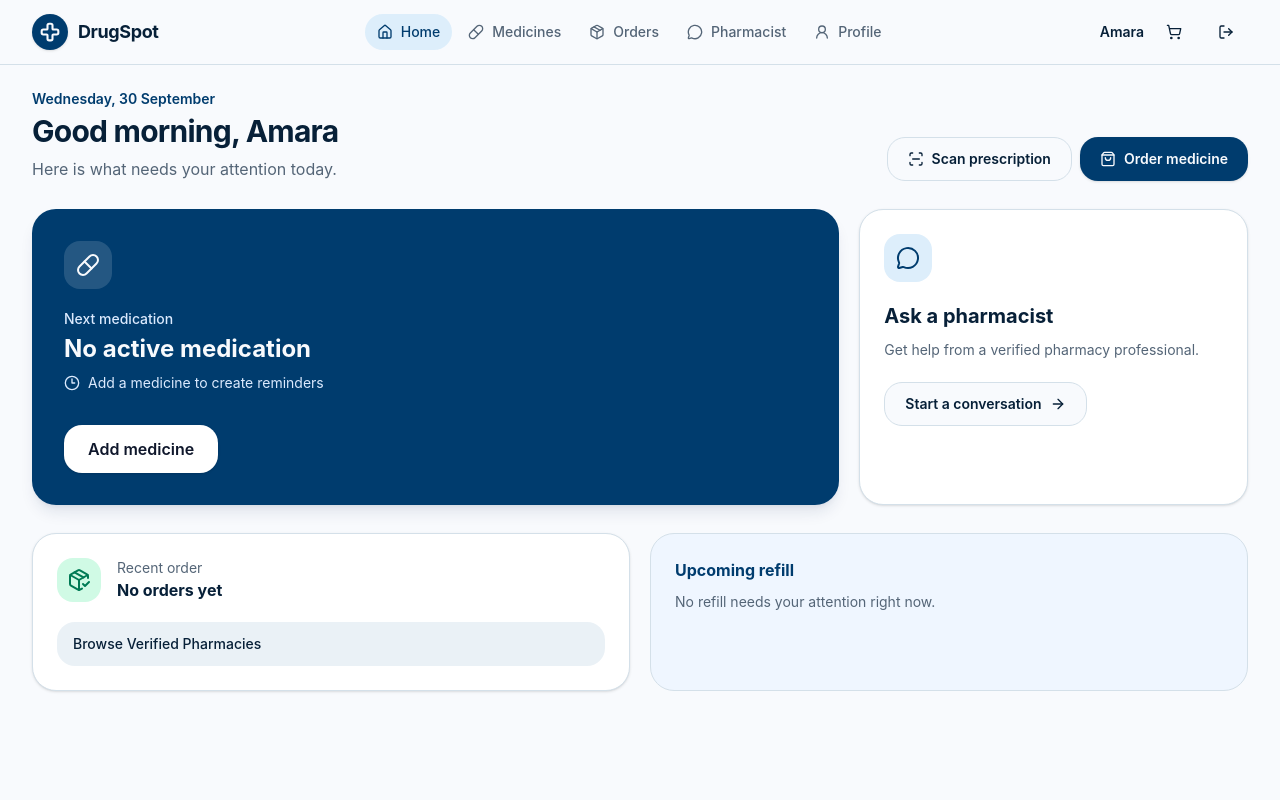
DrugSpot public application › routes an authenticated Home visit to the patient dashboard
Expected: the heading "Good morning, Amara" is shown, left=32, top=113, right=338, bottom=149
Click the link "Orders" at (624, 32), box left=589, top=23, right=659, bottom=40
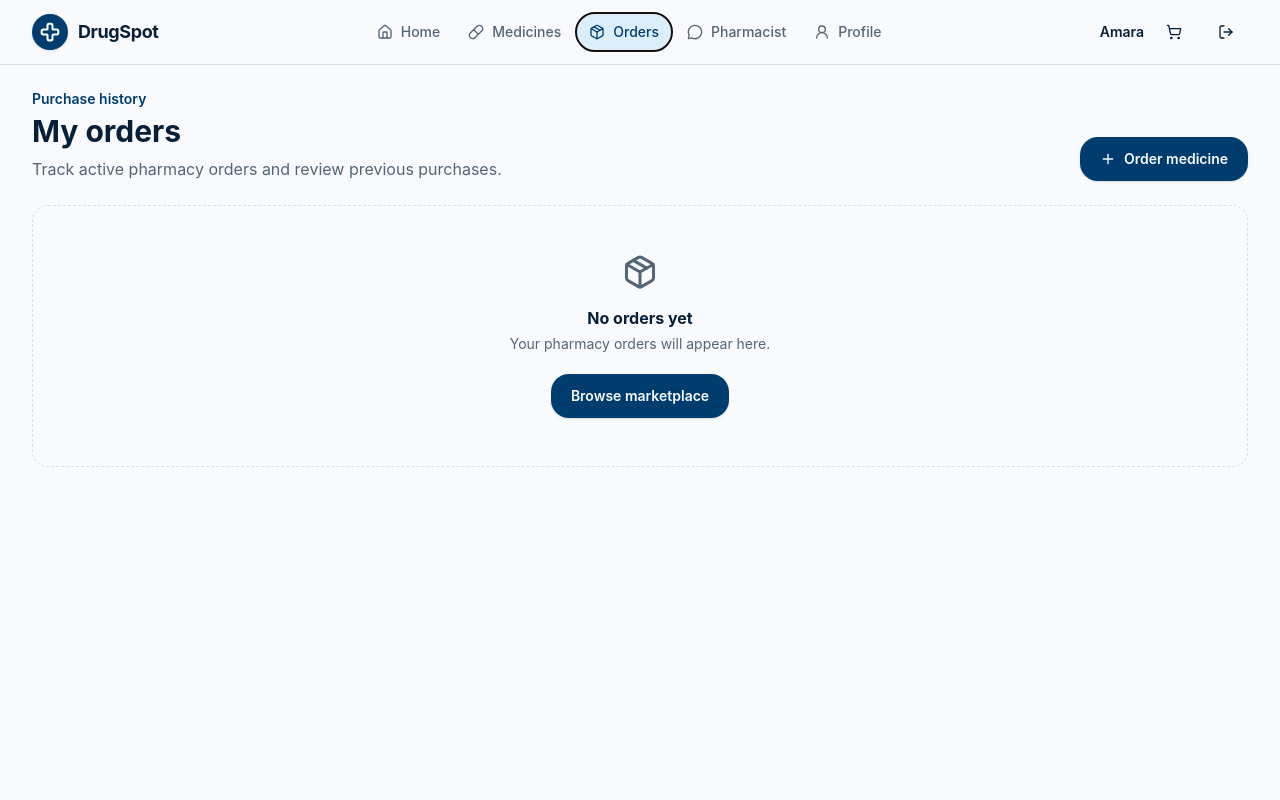
Click the link "Home" at (408, 32), box left=377, top=23, right=440, bottom=40
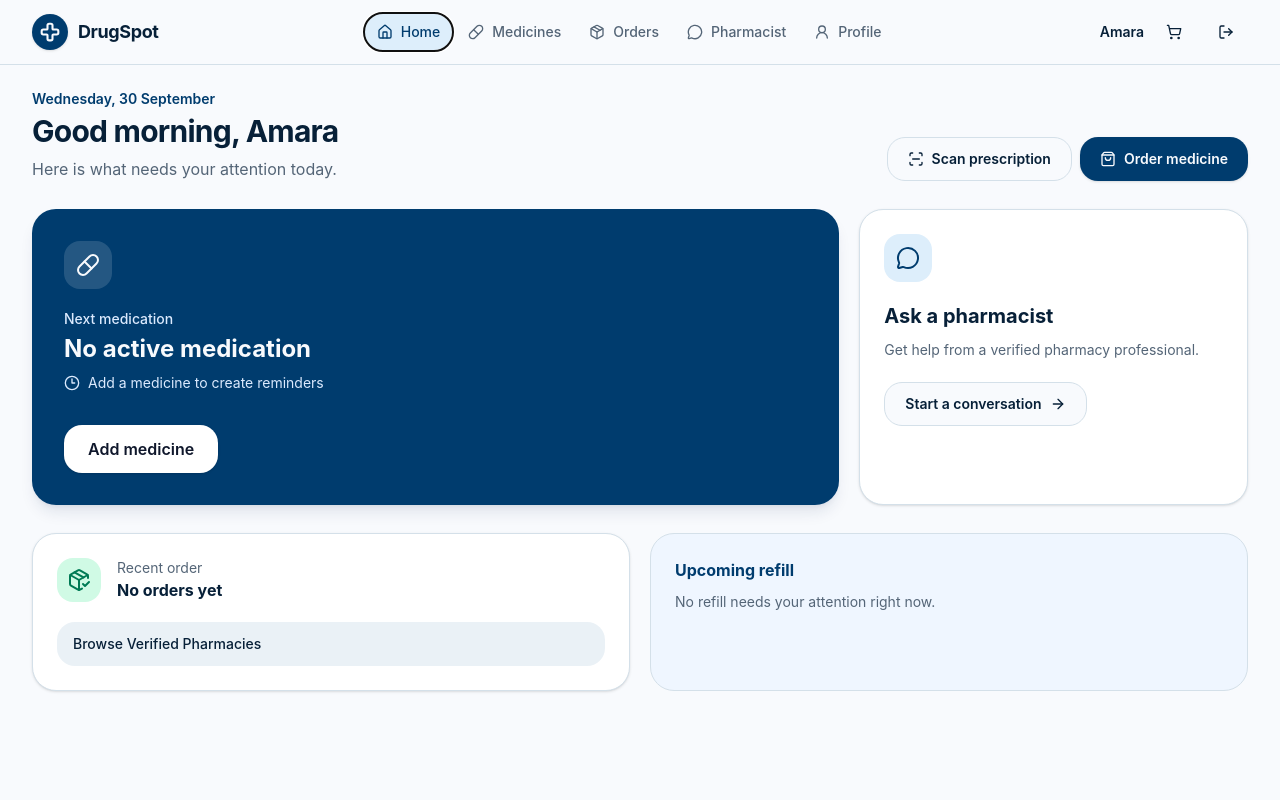
Expected: the heading "Good morning, Amara" is shown, left=32, top=113, right=338, bottom=149
